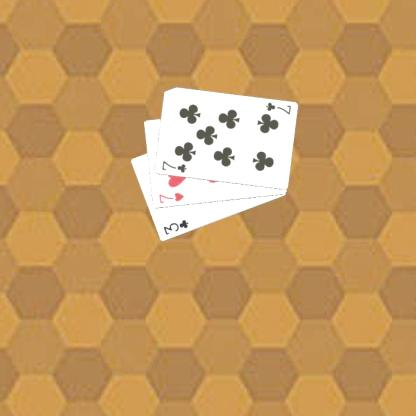3C: (160, 217, 190, 236)
7C: (159, 158, 188, 174), (263, 100, 292, 116)
7H: (156, 190, 186, 205)
